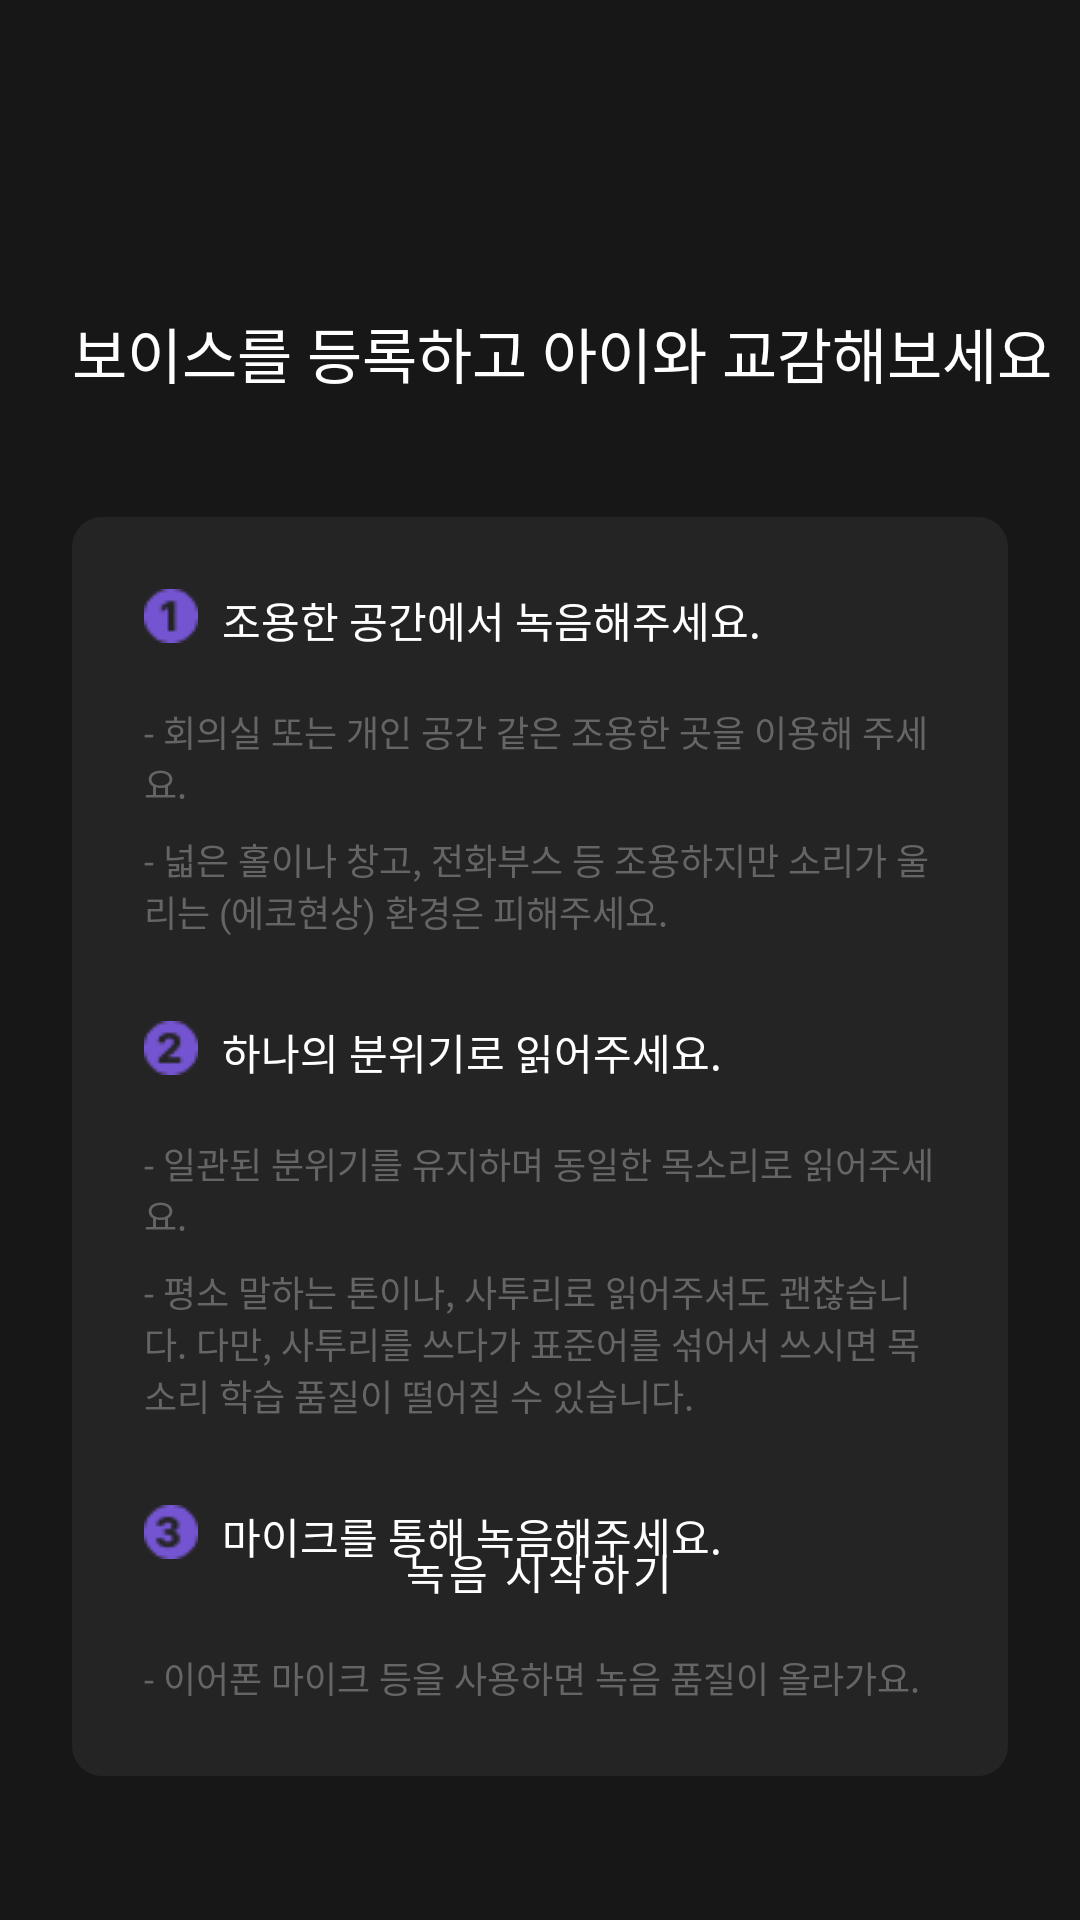

Where icons sit on this 1080 × 1920 app screen, as (x1, y1, x2, y2):
number: (144, 589, 198, 643), (144, 1021, 198, 1075), (144, 1505, 198, 1559)
